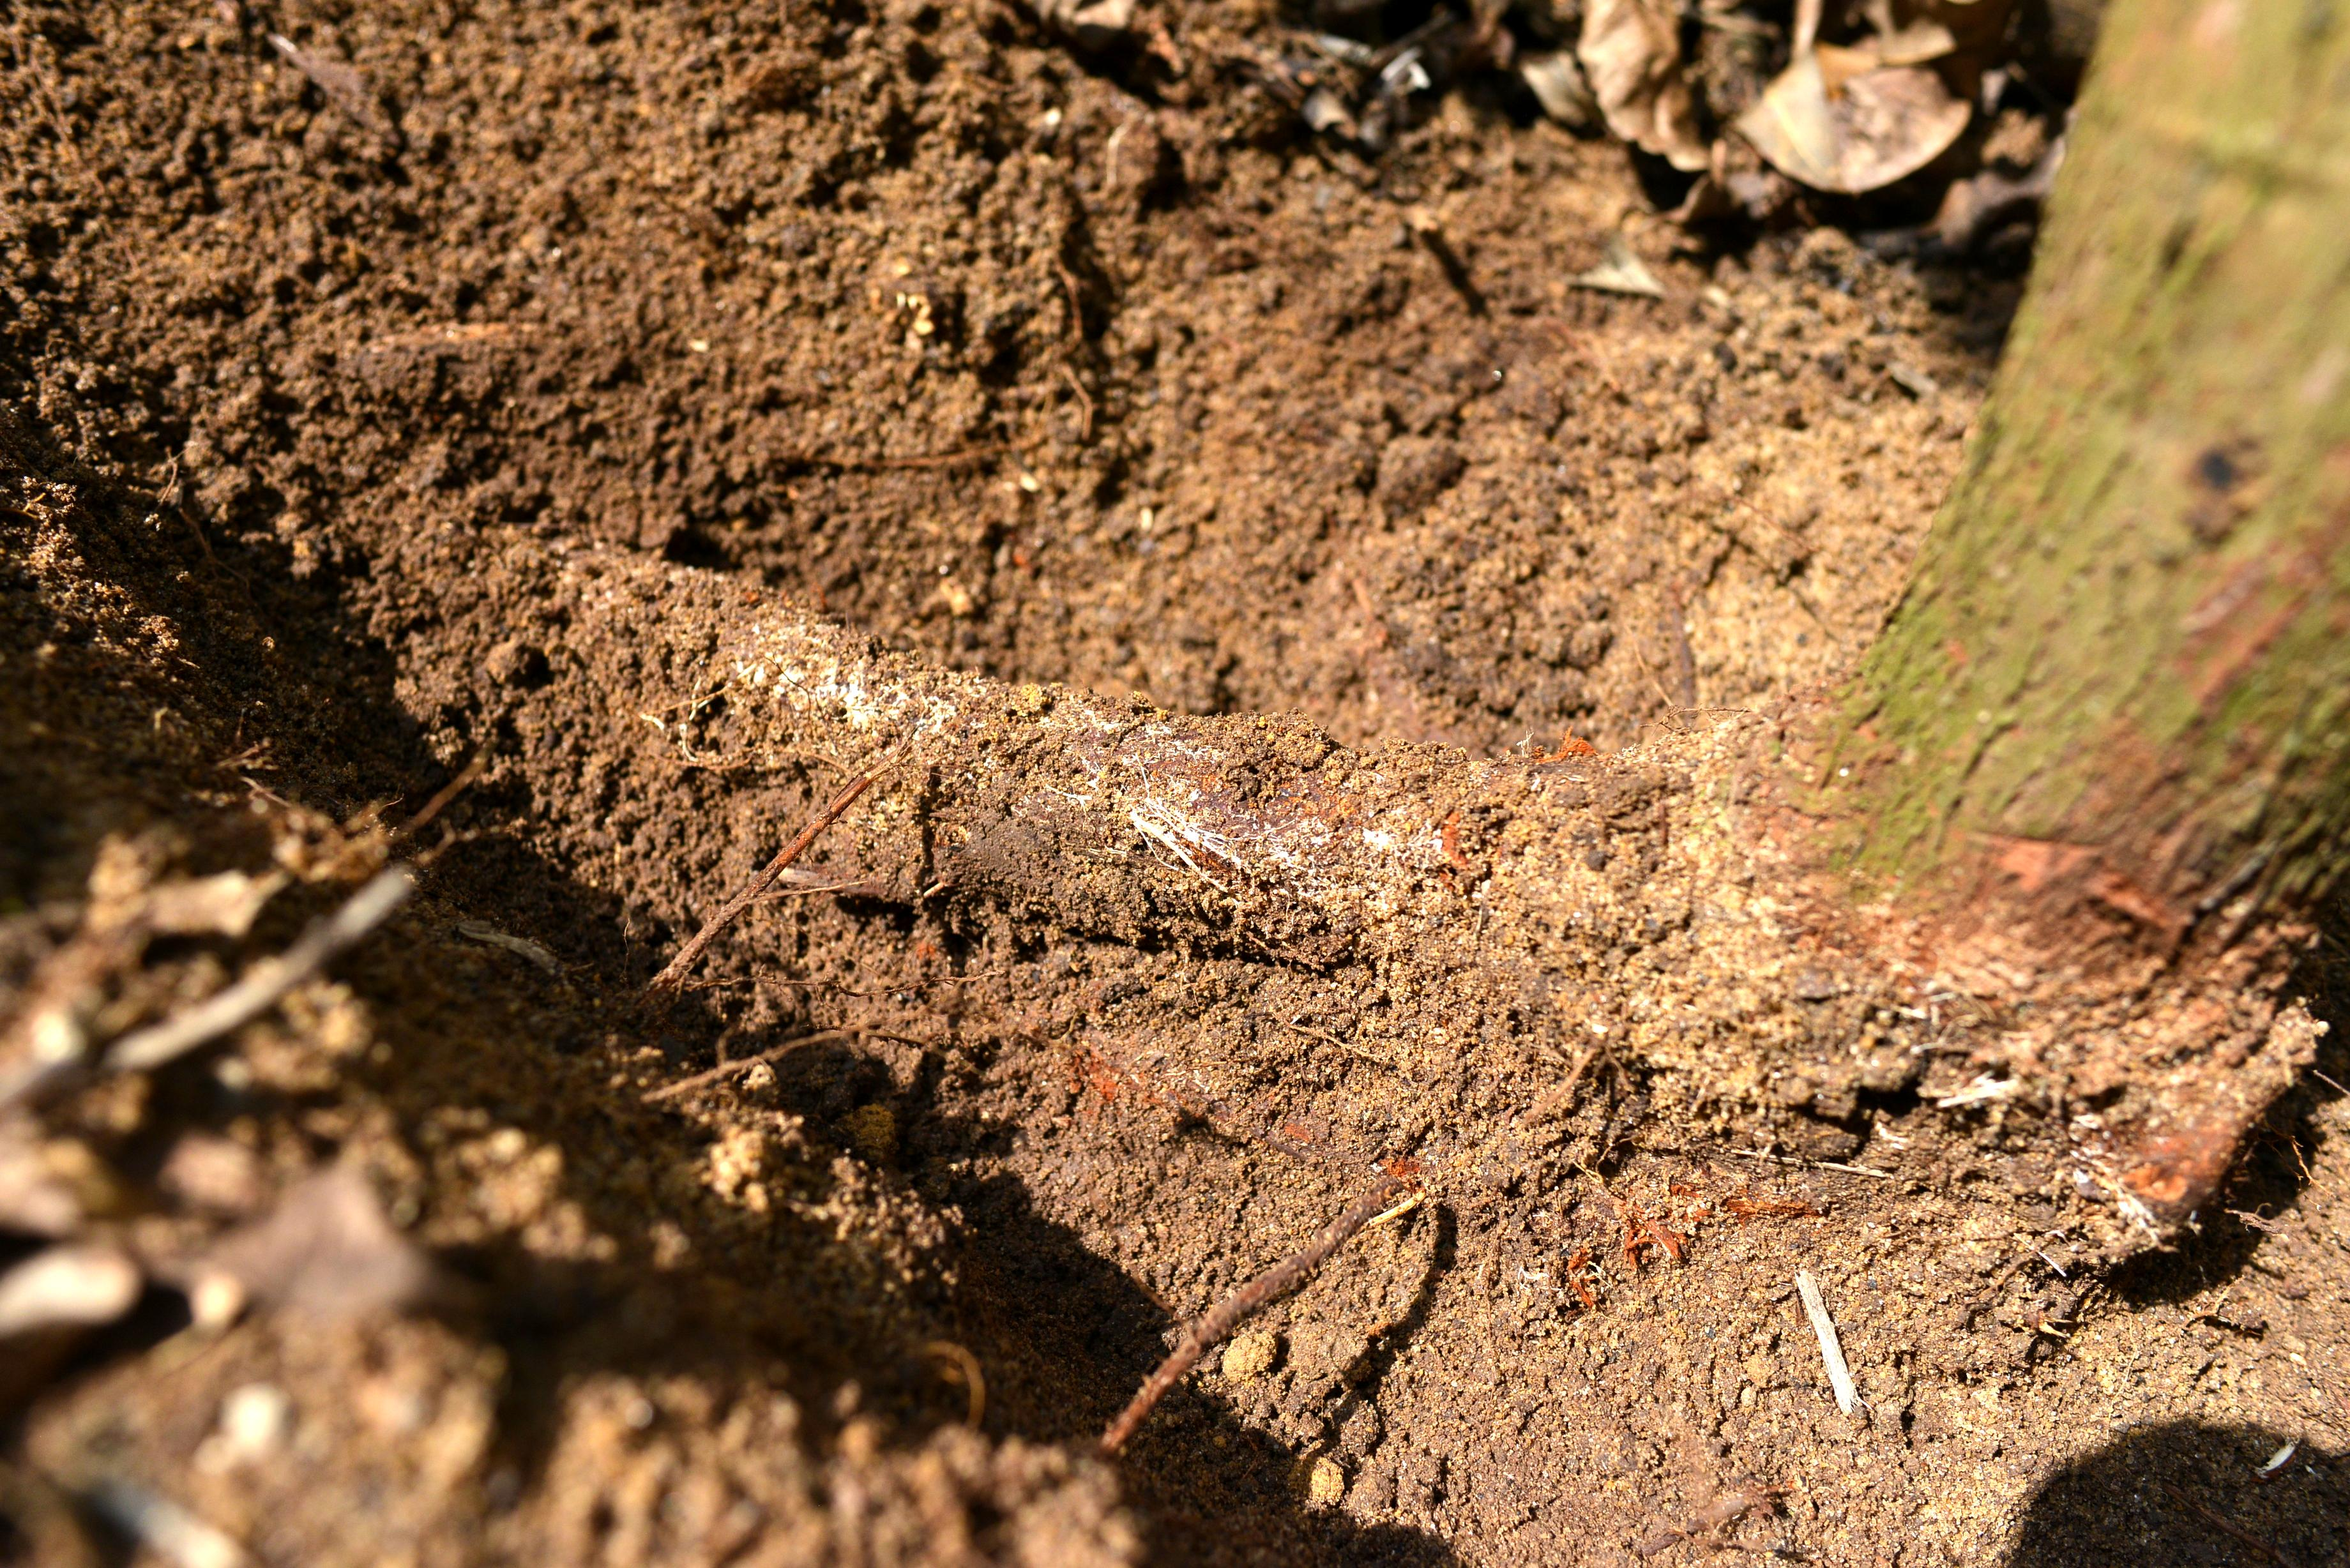Ganoderma - Mycelium: (681, 591, 1507, 945)
Red Root Rot - Secretion: (1552, 1176, 1802, 1312), (2114, 1053, 2212, 1214), (1064, 1029, 1151, 1129), (1346, 1111, 1426, 1193)
